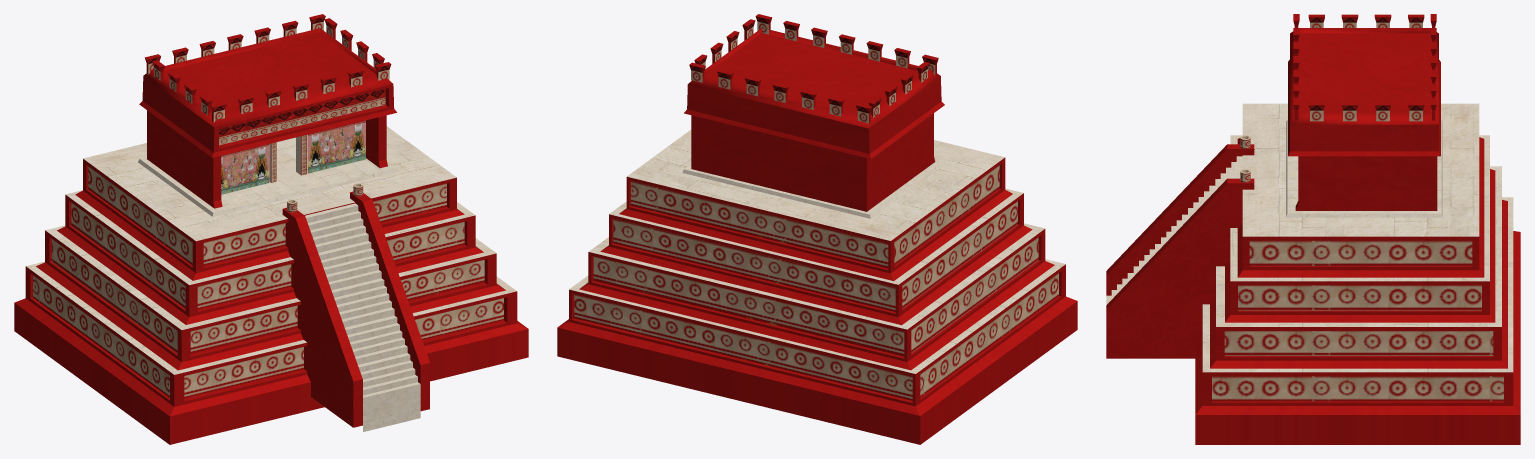
File: temple_2.dae
The picture shows the model from 3 angles, left to right: view 1: azimuth 30°, elevation 25°; view 2: azimuth 150°, elevation 25°; view 3: azimuth 270°, elevation 25°; orthographic projection. The views are drawn at different scales.
Parts seen in each view (by area): view 1: TEMPLE2; view 2: TEMPLE2; view 3: TEMPLE2.
Part boxes in pixels (x1,y1,x2,y2): TEMPLE2: (14, 14, 528, 444); TEMPLE2: (557, 14, 1077, 444); TEMPLE2: (1106, 14, 1520, 444).
Size of the model in its own units: 35.86 by 34.27 by 26.83.
